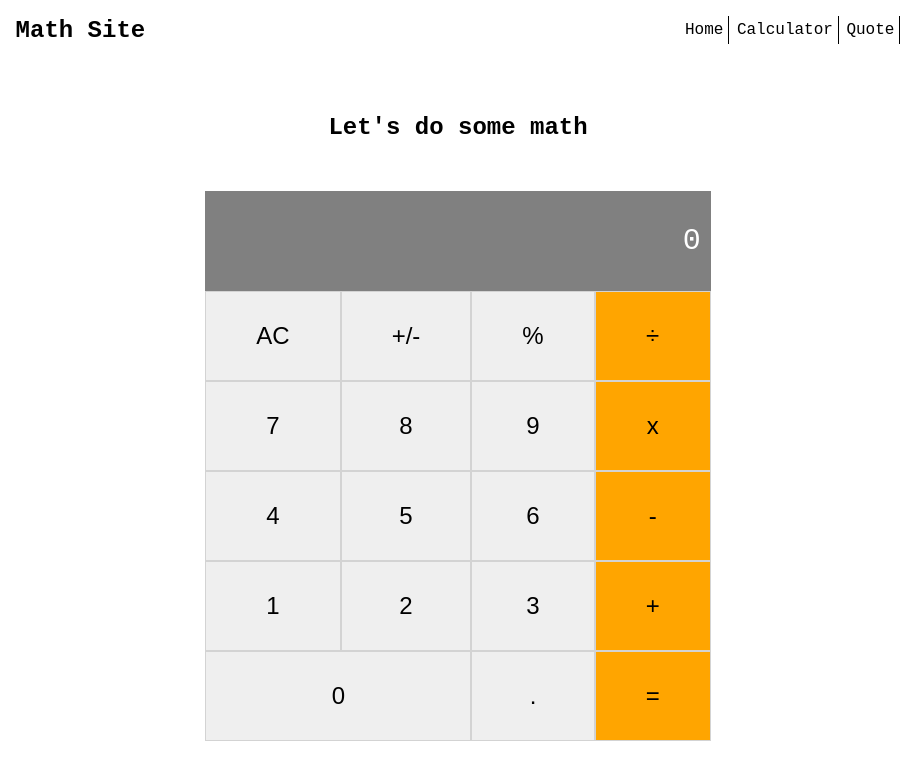
it: Navigation › navigation quote
What coordinates should you click on to do the following:
click the link "Quote"
I would click on:
 (871, 30)
Its box is [841, 16, 900, 44].
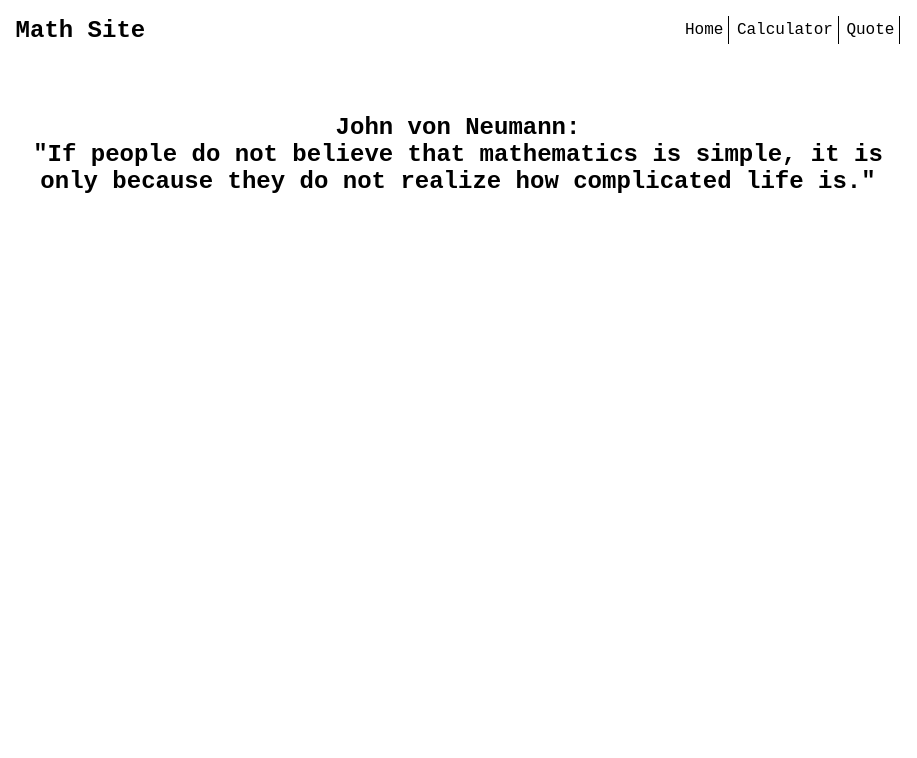
Result: the heading that starts with "John von Neumann:" is shown at [336, 114, 580, 141]
